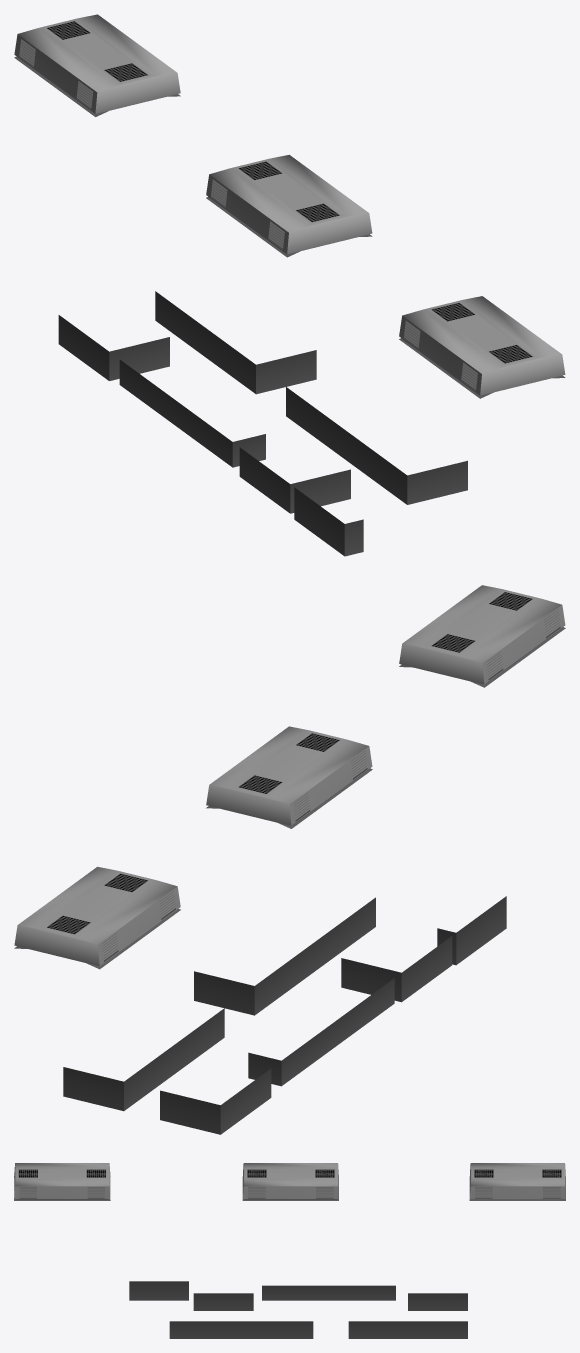
Rendered from H2000_PANTA01.glb.
3 views of the same model, one above another, from view 1: azimuth 30°, elevation 25°; view 2: azimuth 150°, elevation 25°; view 3: azimuth 270°, elevation 25° (orthographic). The views are drawn at different scales.
Visible parts, largest first — view 1: OBJ; view 2: OBJ; view 3: OBJ.
Boxes of the visible parts, left/top/right/bottom form: OBJ: left=14, top=14, right=565, bottom=556; OBJ: left=14, top=585, right=565, bottom=1134; OBJ: left=14, top=1163, right=565, bottom=1338.
Size of the model in its own units: 5.53 by 8.23 by 28.41.
9 materials, 9 textured.
